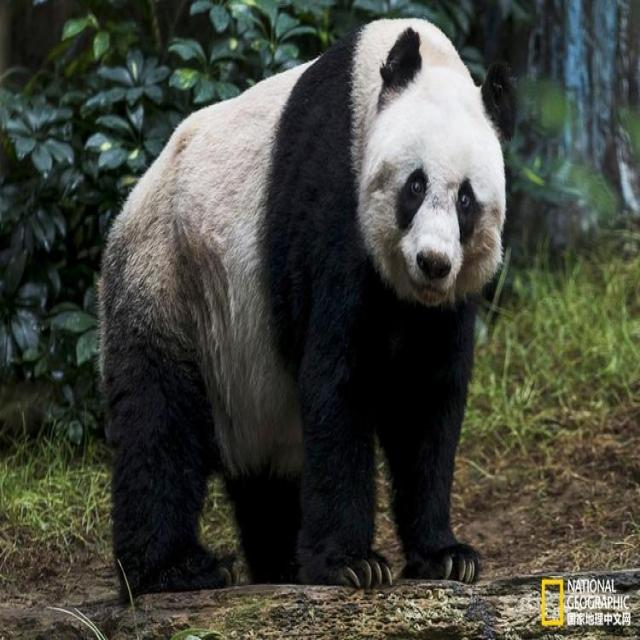panda: (95, 11, 509, 593)
